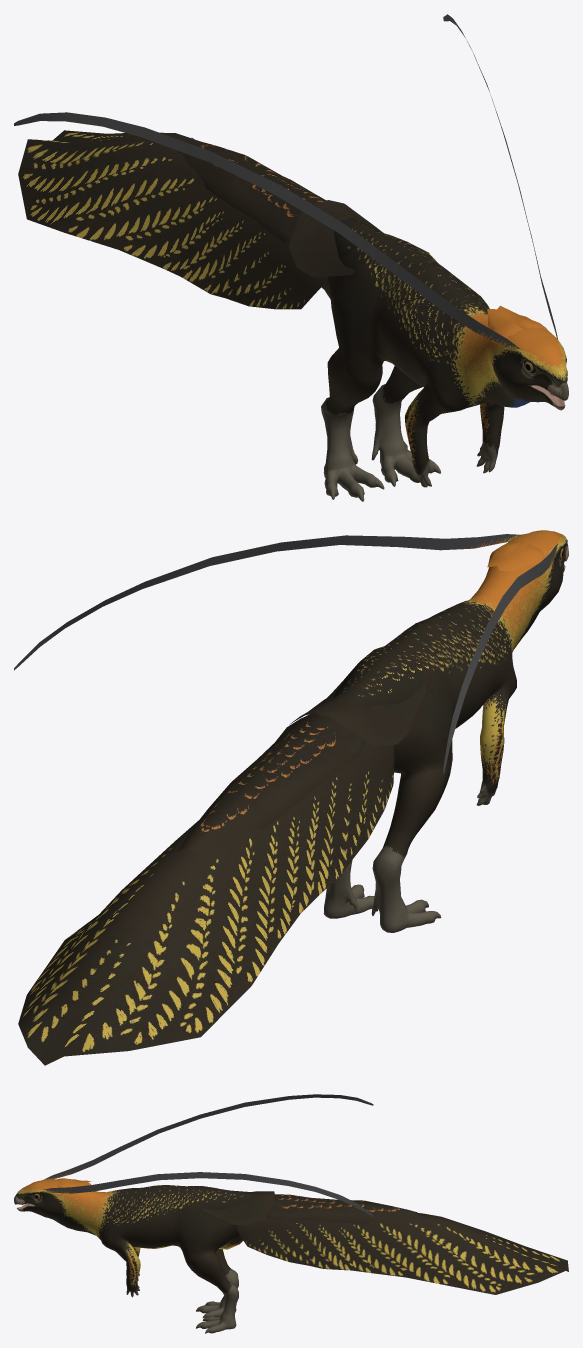
Rendered from Hypsilophodon.glb.
The picture shows the model from 3 angles, top to bottom: view 1: azimuth 30°, elevation 25°; view 2: azimuth 150°, elevation 25°; view 3: azimuth 270°, elevation 25°; orthographic projection. The views are drawn at different scales.
Parts seen in each view (by area): view 1: DW_Hypsilophodon_Adulto_Mayor_mesh; view 2: DW_Hypsilophodon_Adulto_Mayor_mesh; view 3: DW_Hypsilophodon_Adulto_Mayor_mesh.
Part boxes in pixels (x1,y1,x2,y2): DW_Hypsilophodon_Adulto_Mayor_mesh: (14, 14, 568, 501); DW_Hypsilophodon_Adulto_Mayor_mesh: (14, 530, 568, 1065); DW_Hypsilophodon_Adulto_Mayor_mesh: (14, 1094, 568, 1333).
Bounding box in the file's own units: 0.4755 × 0.3619 × 1.
Materials: 3 (3 with a texture image).
